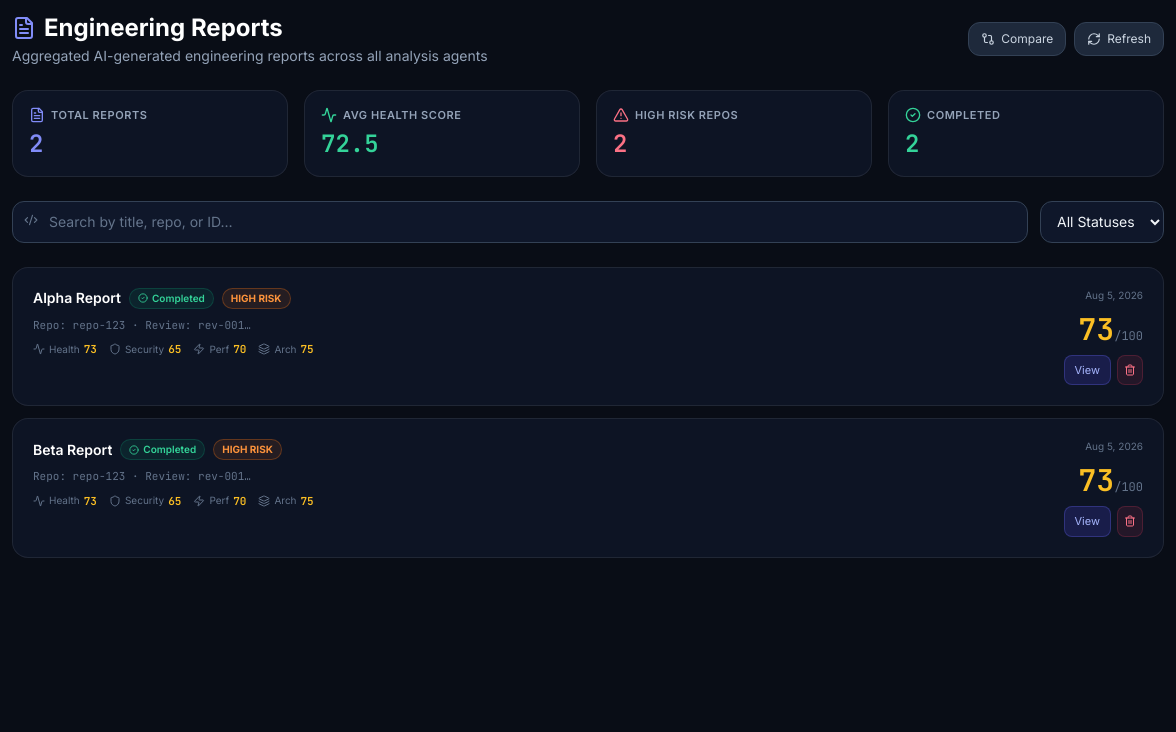
Test: ReportsPage › filter input filters by title
The image size is (1176, 732).
Check: the heading "Alpha Report" is shown, box [33,288,121,308]
Type "Alpha" into the field with placeholder "Search by title, repo, or ID…".
click(520, 222); type("Alpha")  # box [12,200,1028,242]
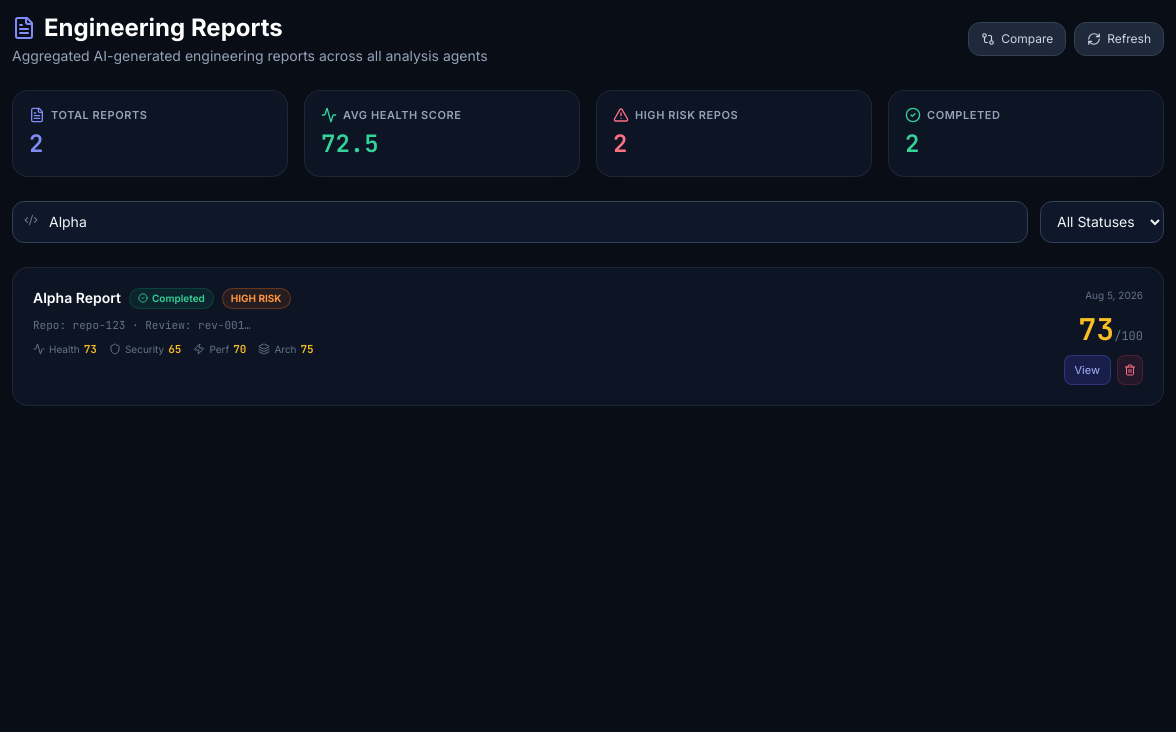
Check: the heading "Alpha Report" is shown, box [33,288,121,308]
Check: the heading "Beta Report" is gone
